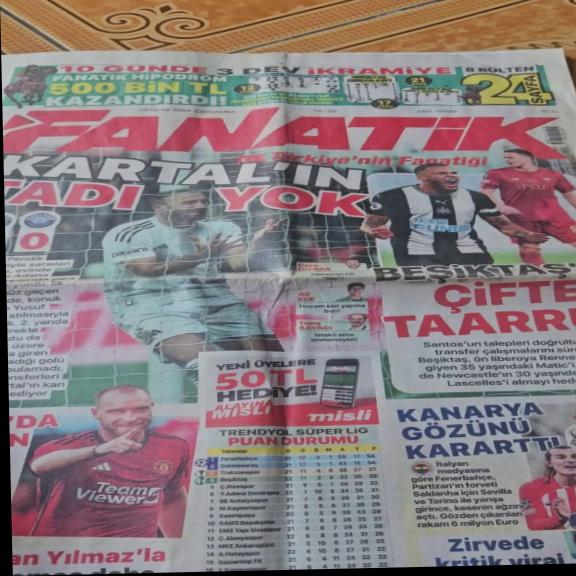Kertas: (6, 270, 576, 576), (1, 30, 576, 330)
